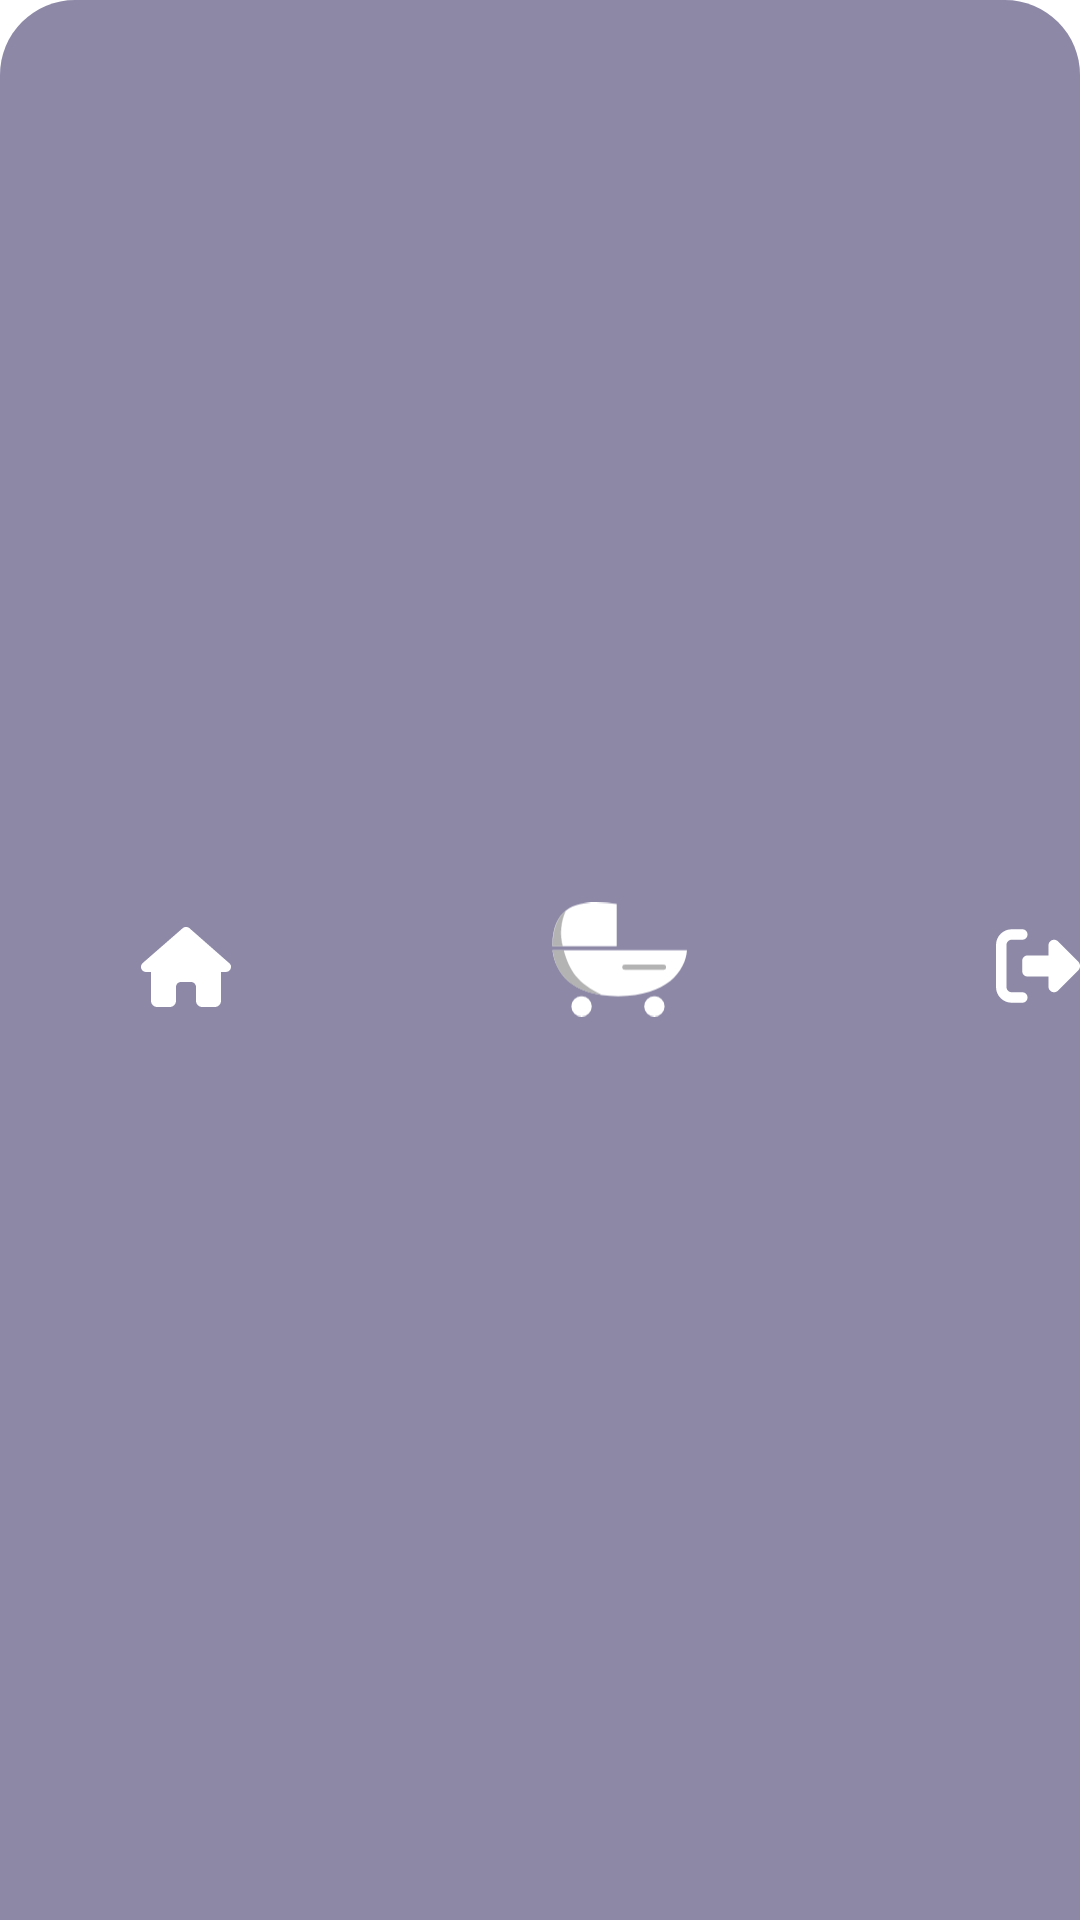

Icons on this 1080x1920 Android screen, each with its box as bbox=[x1, y1, x2, y2]:
house: bbox=[141, 927, 231, 1007]
right from bracket: bbox=[996, 929, 1080, 1003]
